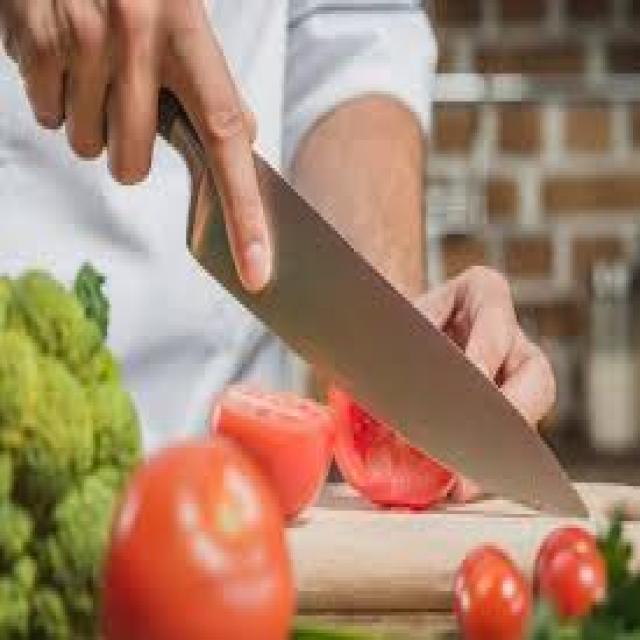Knife: (161, 94, 584, 514)
